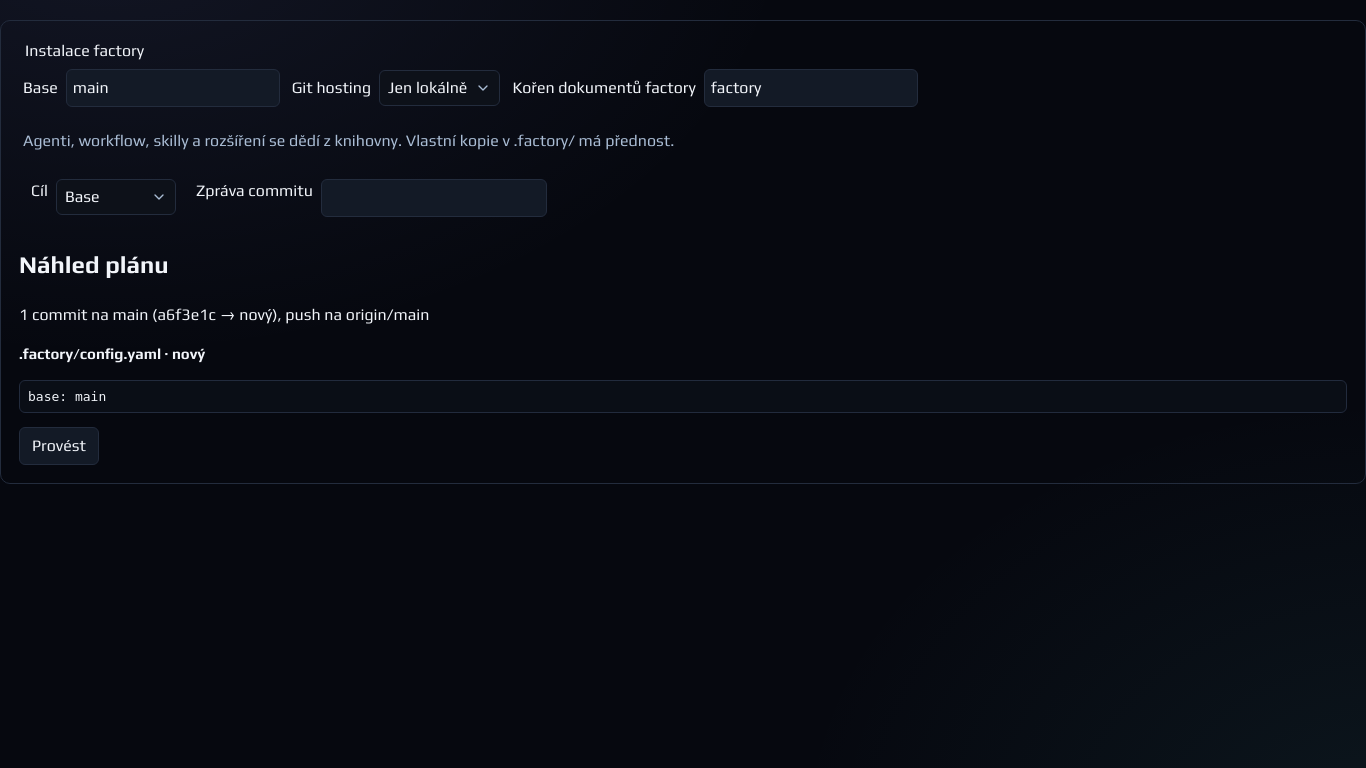
Test: Factory operations › requires its own modal and cancellation never applies
Click the button with test id "factory-perform" at [59, 446], box [19,427,99,465]
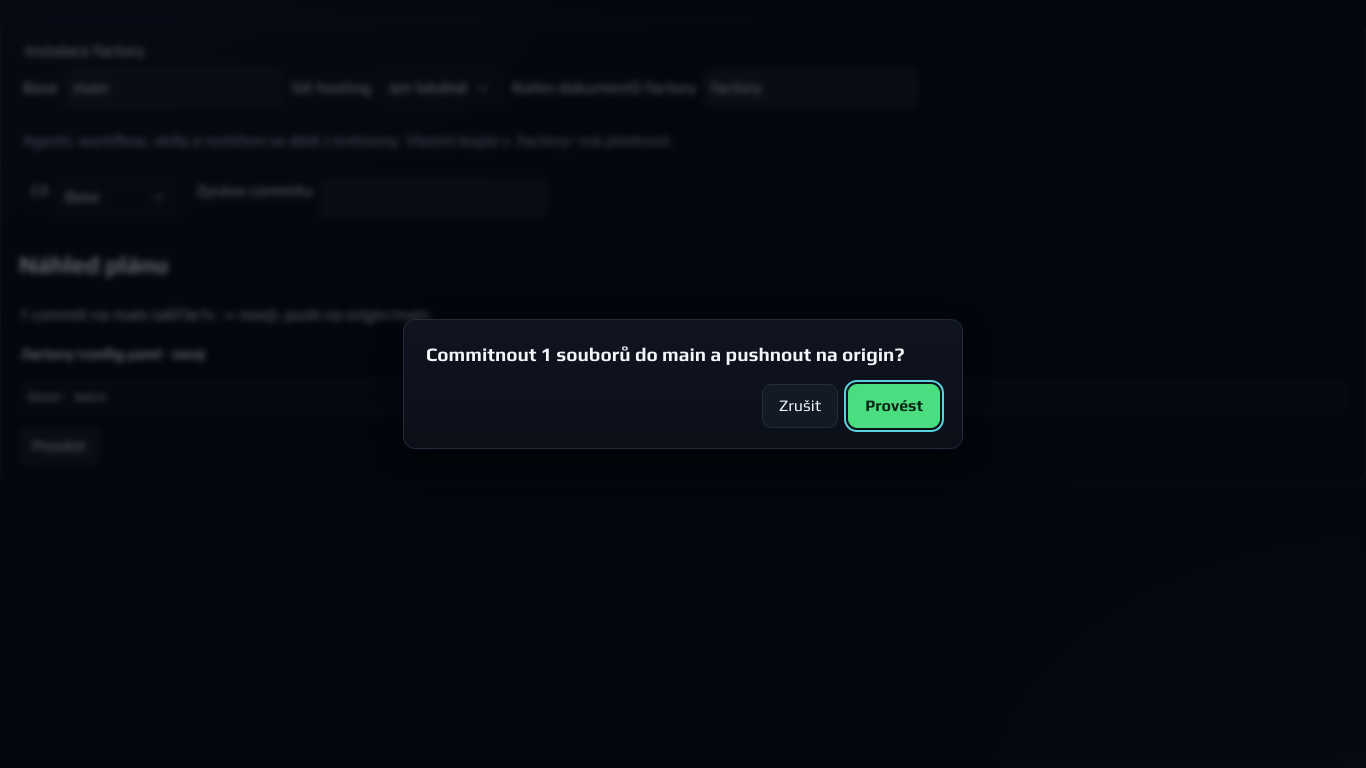
Now the dialog with test id "confirm-dialog" shows "Commitnout 1 souborů do main a pushnout na origin?", box [426,343,904,365]
Click the button with test id "confirm-cancel" at [800, 406], box [762,384,838,428]
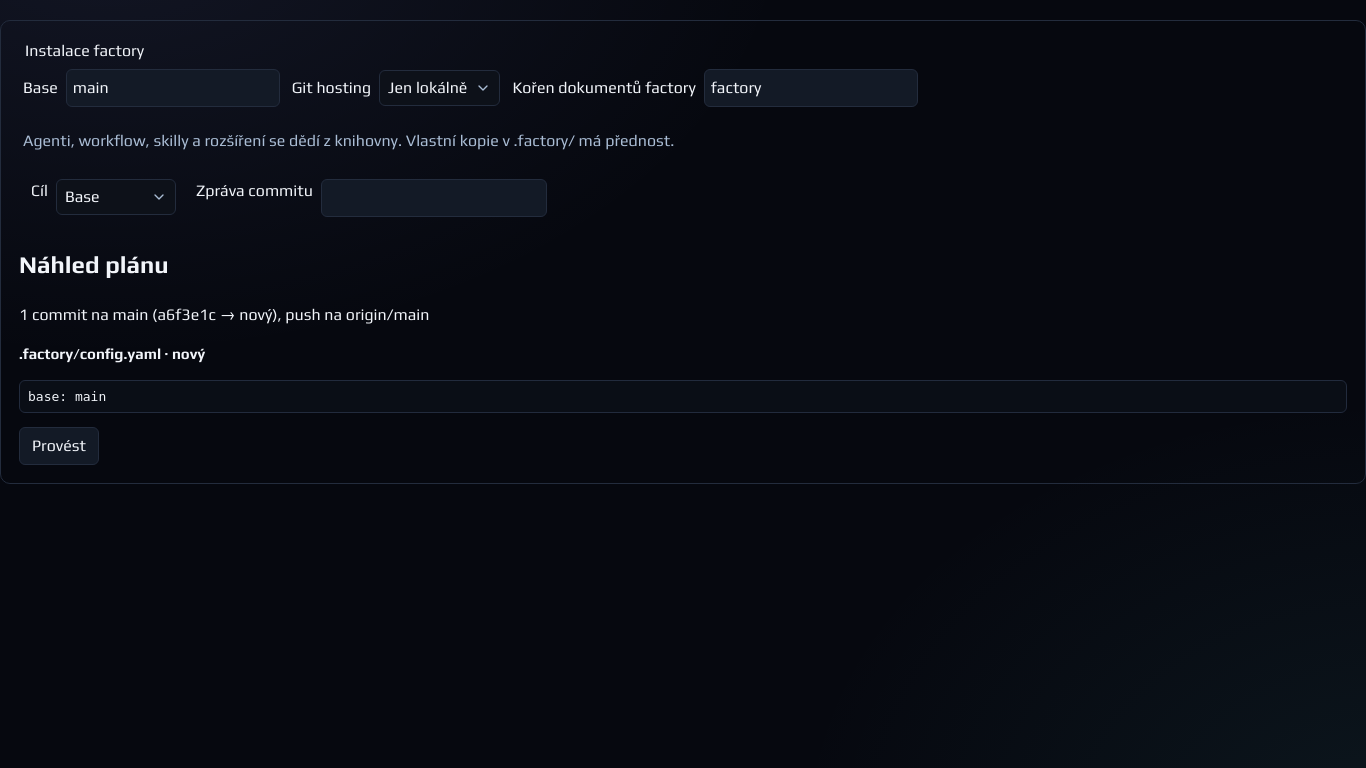
Click the button with test id "factory-perform" at [59, 446], box [19,427,99,465]
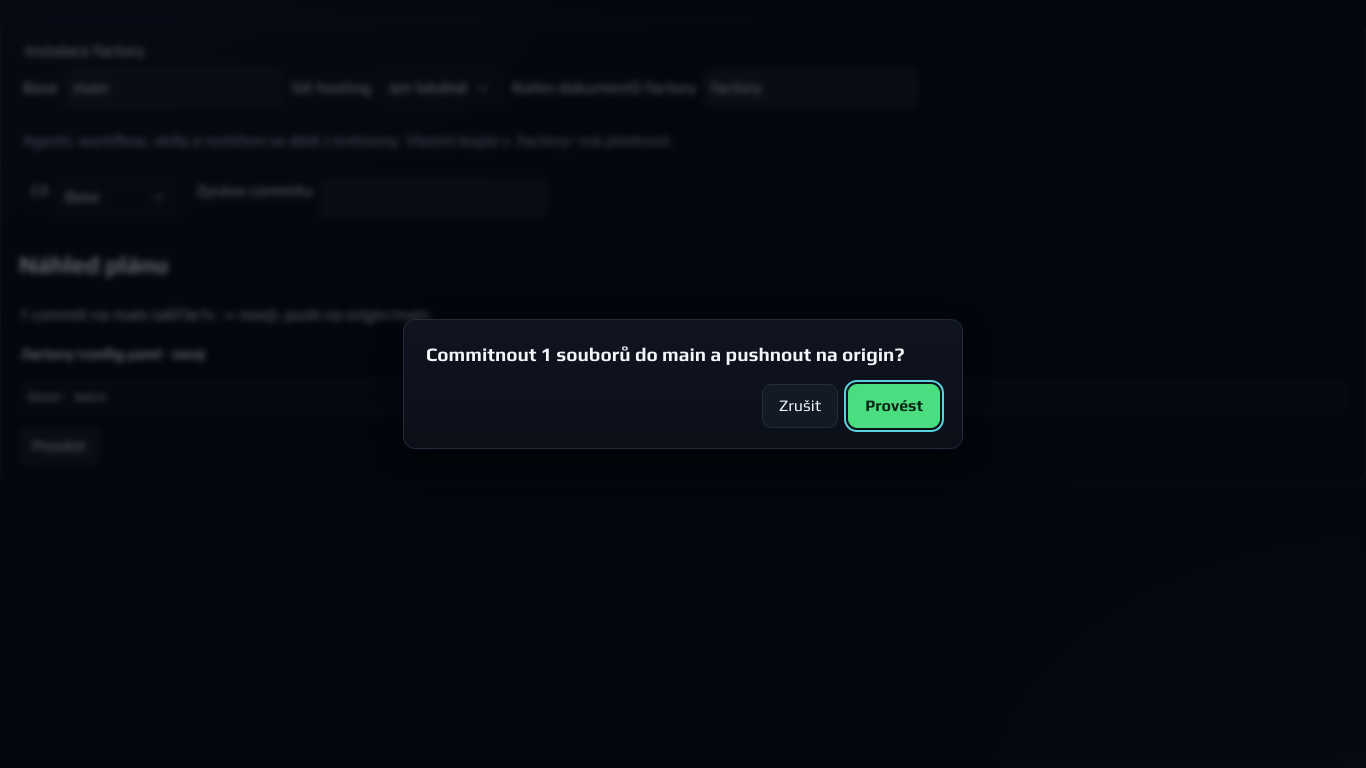
Click the button with test id "confirm-ok" at [894, 406], box [848,384,940,428]
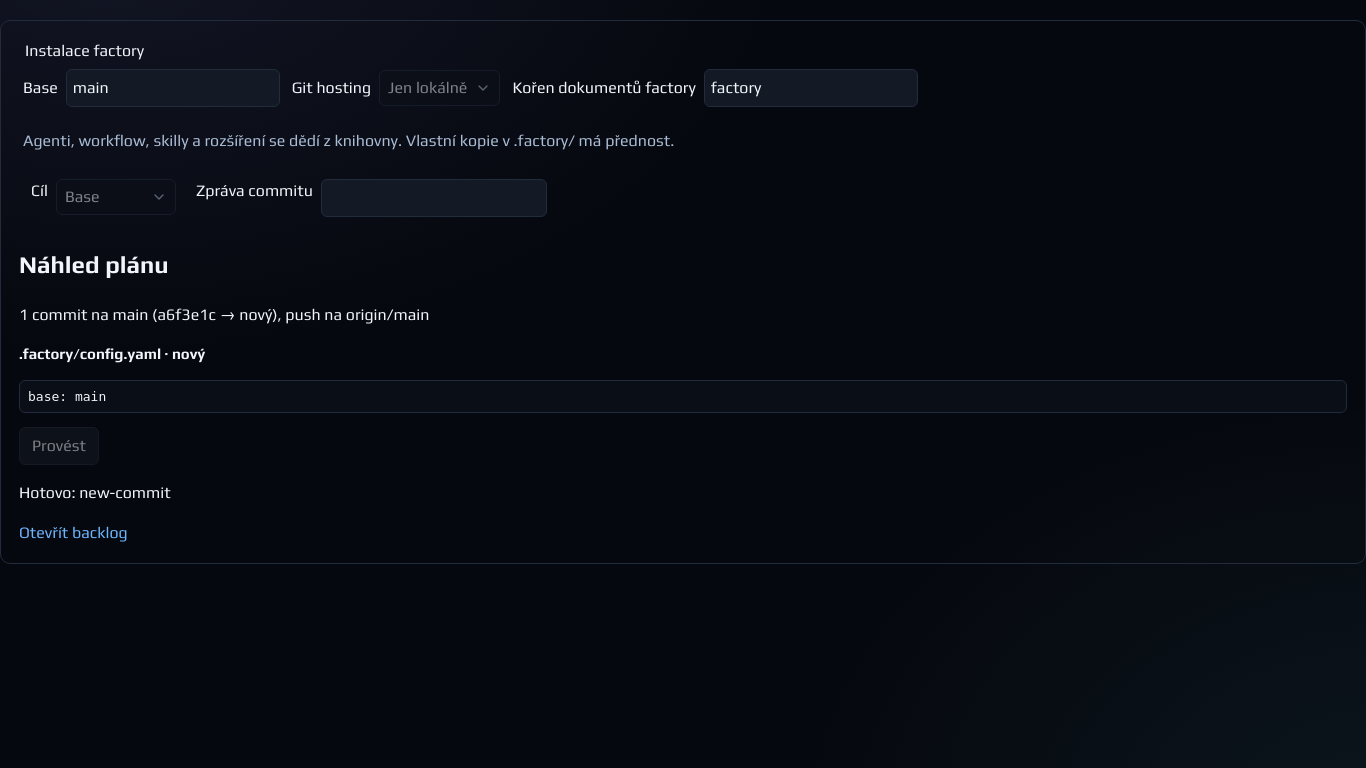
Now the text "new-commit" is shown, box [19,483,171,502]
